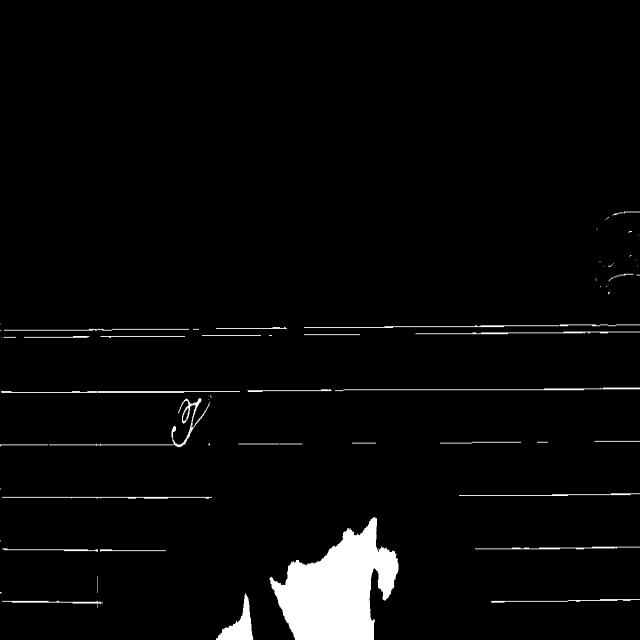hand: (271, 518, 398, 639), (216, 595, 252, 639)
noise: (303, 323, 640, 335), (0, 326, 288, 338), (2, 573, 96, 601), (217, 595, 252, 639), (336, 386, 640, 391), (0, 389, 240, 394), (475, 545, 640, 551), (458, 490, 640, 495), (0, 548, 166, 553), (0, 442, 174, 446), (2, 495, 211, 498), (492, 598, 640, 602), (439, 440, 523, 444), (238, 442, 304, 446), (248, 388, 330, 391), (593, 439, 640, 444), (535, 440, 549, 444), (350, 442, 376, 444), (208, 442, 210, 444)
not-noise: (171, 396, 211, 447)
page-marker: (596, 211, 640, 292)
